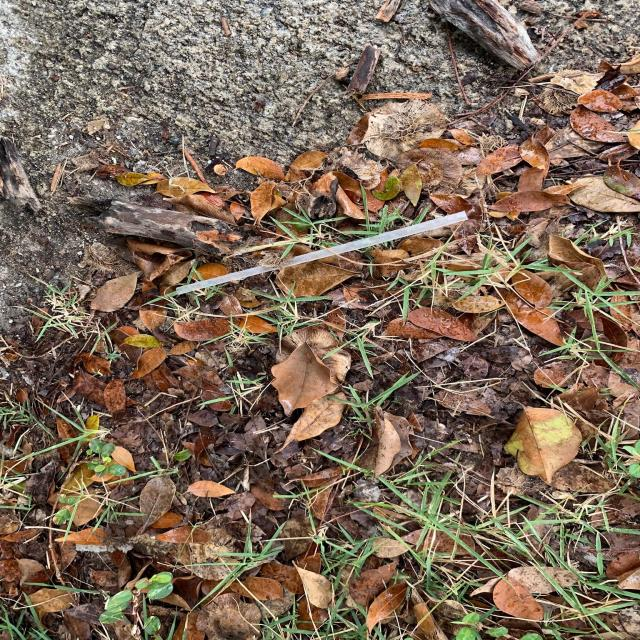litter: (177, 211, 468, 295)
